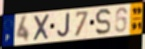4: (15, 14, 31, 44)
6: (114, 7, 128, 34)
7: (74, 10, 90, 38)
J: (56, 12, 71, 39)
S: (95, 8, 112, 37)
X: (32, 13, 51, 42)
